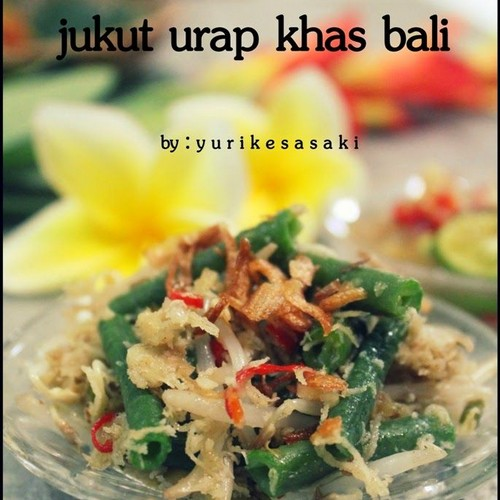jukut urap: (73, 198, 466, 482)
